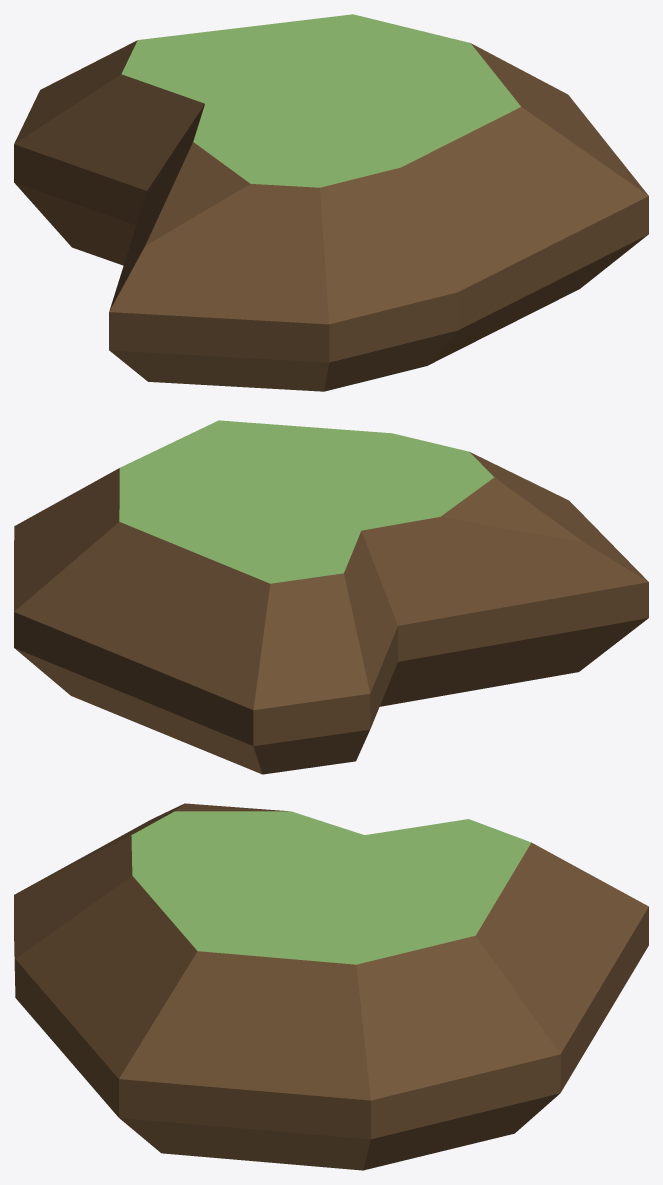
Rendered from rock-large-c.glb.
3 views of the same model, one above another, from view 1: azimuth 30°, elevation 25°; view 2: azimuth 150°, elevation 25°; view 3: azimuth 270°, elevation 25° (orthographic). The views are drawn at different scales.
Visible parts, largest first — view 1: rock_largeC; view 2: rock_largeC; view 3: rock_largeC.
Part boxes in pixels (x1=…): rock_largeC: x1=14, y1=14, x2=648, y2=391; rock_largeC: x1=14, y1=420, x2=648, y2=774; rock_largeC: x1=14, y1=803, x2=648, y2=1170.
Size of the model in its own units: 1.66 by 0.5 by 1.58.
